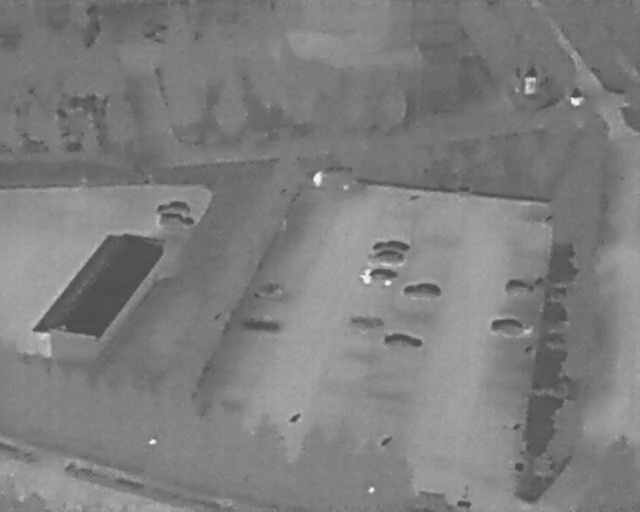Car: (359, 269, 399, 287), (402, 282, 442, 299), (383, 334, 423, 350), (491, 318, 528, 335), (366, 251, 406, 266), (158, 214, 194, 229), (373, 241, 410, 255), (505, 279, 537, 295), (156, 202, 191, 216)
